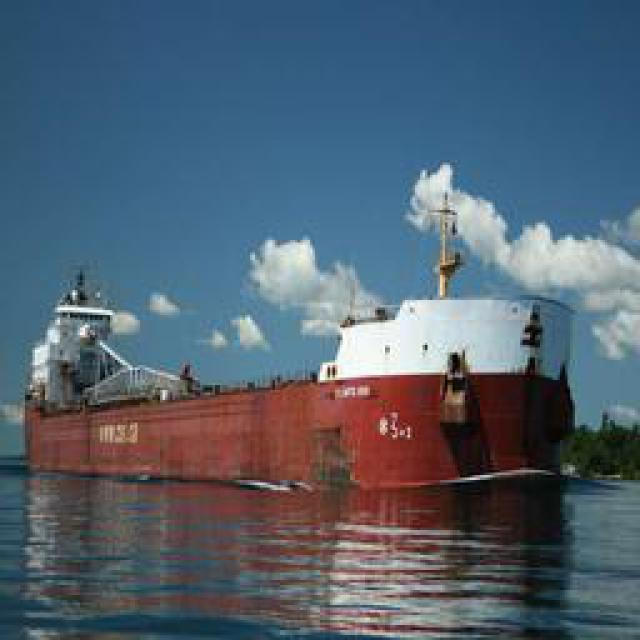Ship: (24, 269, 384, 492)
